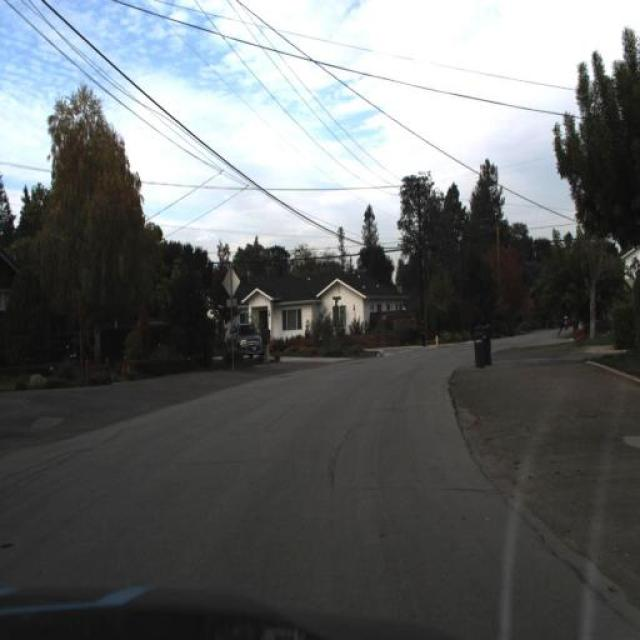car: (229, 323, 263, 359), (266, 336, 285, 368)
